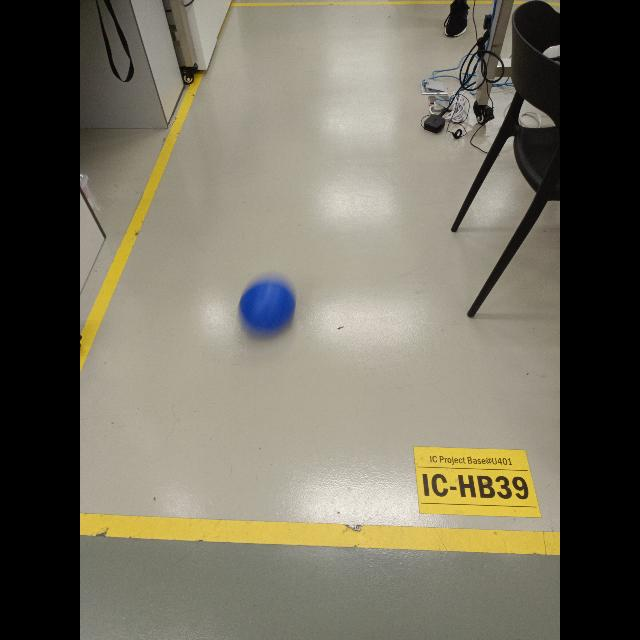B: (234, 274, 304, 344)
